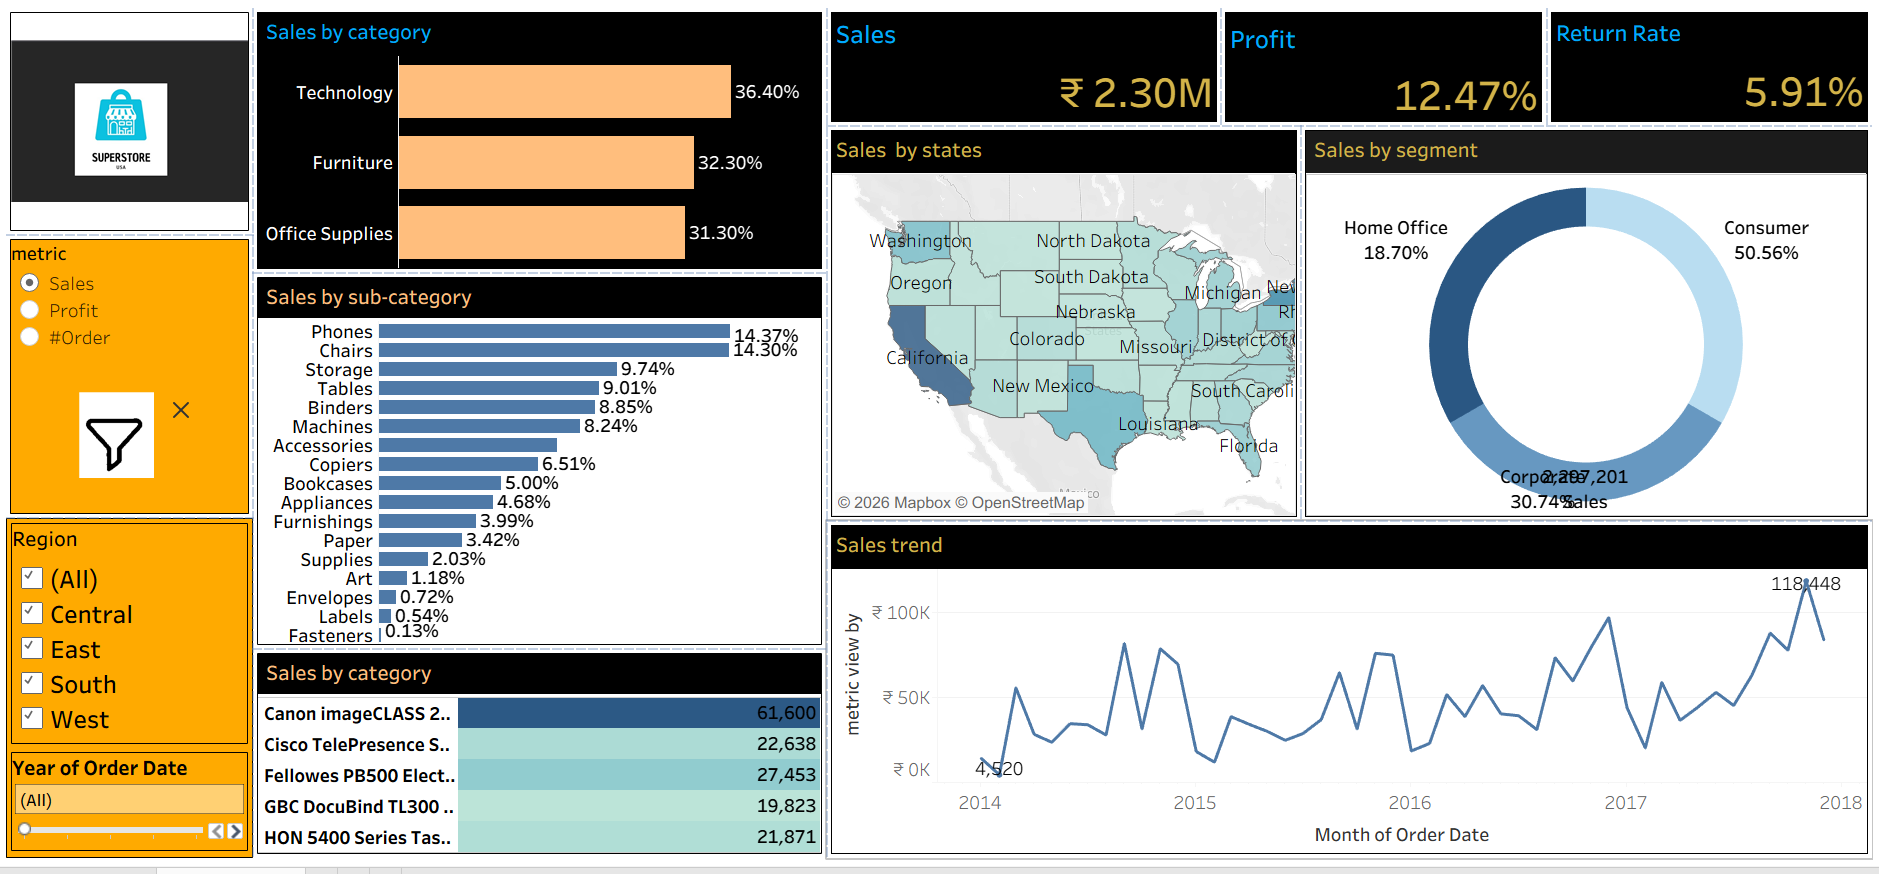

What the dashboard file says about the page in this screenshot:
{"tool":"tableau","page":{"name":"Dashboard 1","canvas":[1000,1000],"units":"permille","ordinal":0},"visuals":[{"type":"image","param":"Image/superstore_usa_edited.png","box":[4.2,9.2,131.3,262.1]},{"type":"worksheet","title":"category","mark":"Automatic","rows":["Category"],"cols":["Calculation_1778504768565249"],"box":[135.6,9.2,304.7,306]},{"type":"worksheet","title":"metric","mark":"Automatic","box":[440.3,9.2,209.8,136.3]},{"type":"worksheet","title":"profit margin ","mark":"Automatic","box":[650.1,9.2,172.8,136.3]},{"type":"worksheet","title":"return rate","mark":"Automatic","box":[822.9,9.2,172.8,136.3]},{"type":"worksheet","title":"sales by state","mark":"Automatic","box":[440.3,145.5,252.1,456.1]},{"type":"worksheet","title":"segment","mark":"Automatic","rows":["Calculation_1778504810266629","Calculation_1778504810283015"],"box":[692.4,145.5,303.4,456.1]},{"type":"parameter","param":"[Parameters].[Parameter 2]","box":[4.2,271.4,131.3,326.8]},{"type":"worksheet","title":"sub category","mark":"Automatic","rows":["Sub-Category"],"cols":["Calculation_1778504768565249"],"box":[135.6,315.2,304.7,434.2]},{"type":"dashboard-object","box":[36.4,452.7,52.8,99.3]},{"type":"dashboard-object","box":[90.5,459.6,14.6,27.7]},{"type":"filter","title":"metric","param":"[federated.1jzfyte0j9u4p314fuya31q98w7m].[none:Region:nk]","box":[4.8,599.3,130.3,264.4]},{"type":"worksheet","title":"trend line ","mark":"Automatic","rows":["Calculation_1778504768565249"],"cols":["Order Date"],"box":[440.3,601.6,555.5,389.2]},{"type":"worksheet","title":"product ","mark":"Square","rows":["Product Name"],"box":[135.6,749.4,304.7,241.3]},{"type":"filter","title":"metric","param":"[federated.1jzfyte0j9u4p314fuya31q98w7m].[yr:Order Date:ok]","box":[4.8,863.7,130.3,123.6]}]}

Visuals, with their boxes on the dashboard's canvas, which has no fixed pixel size, in thousandths of its width and height (x1, y1, x2, y2). These are canvas units, not pixel positions in the 1879x874 screenshot, which may show the page scaled, cropped or inside an application window:
image: (x1=4, y1=9, x2=136, y2=271)
"category" worksheet: (x1=136, y1=9, x2=440, y2=315)
"metric" worksheet: (x1=440, y1=9, x2=650, y2=146)
"profit margin " worksheet: (x1=650, y1=9, x2=823, y2=146)
"return rate" worksheet: (x1=823, y1=9, x2=996, y2=146)
"sales by state" worksheet: (x1=440, y1=146, x2=692, y2=602)
"segment" worksheet: (x1=692, y1=146, x2=996, y2=602)
parameter: (x1=4, y1=271, x2=136, y2=598)
"sub category" worksheet: (x1=136, y1=315, x2=440, y2=749)
dashboard-object: (x1=36, y1=453, x2=89, y2=552)
dashboard-object: (x1=90, y1=460, x2=105, y2=487)
"metric" filter: (x1=5, y1=599, x2=135, y2=864)
"trend line " worksheet: (x1=440, y1=602, x2=996, y2=991)
"product " worksheet (Square marks): (x1=136, y1=749, x2=440, y2=991)
"metric" filter: (x1=5, y1=864, x2=135, y2=987)
